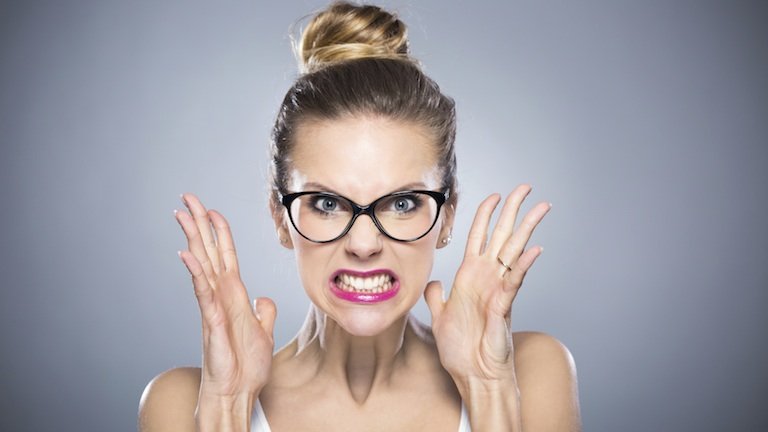angry: (279, 156, 447, 338)
